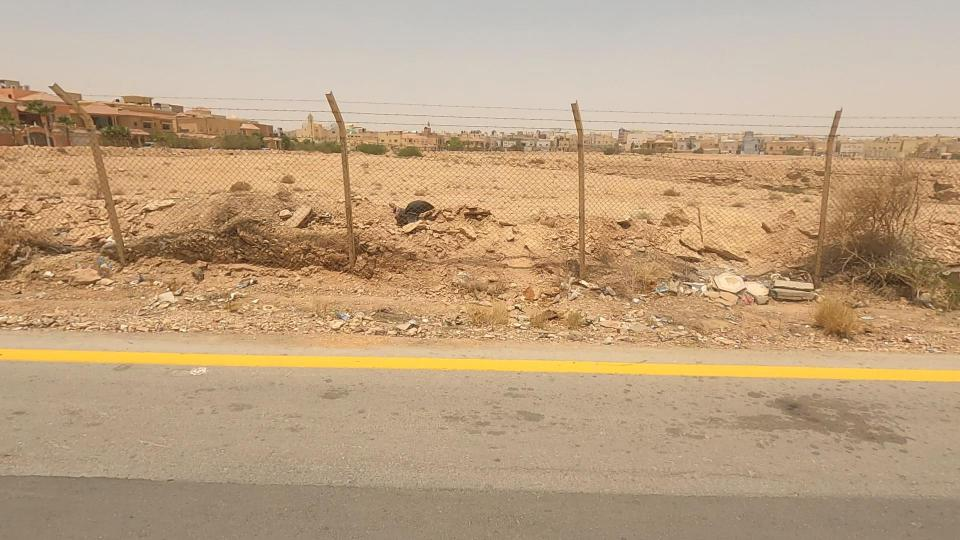GARBAGE: (575, 219, 827, 351), (48, 206, 183, 307), (297, 292, 397, 347)
